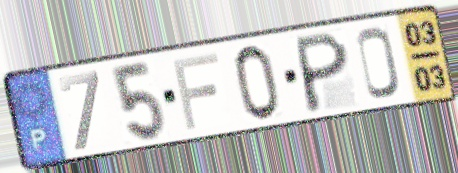0: (233, 42, 282, 123), (355, 25, 402, 102)
5: (106, 57, 170, 143)
7: (56, 69, 102, 153)
F: (169, 50, 222, 133)
P: (295, 28, 351, 116)
